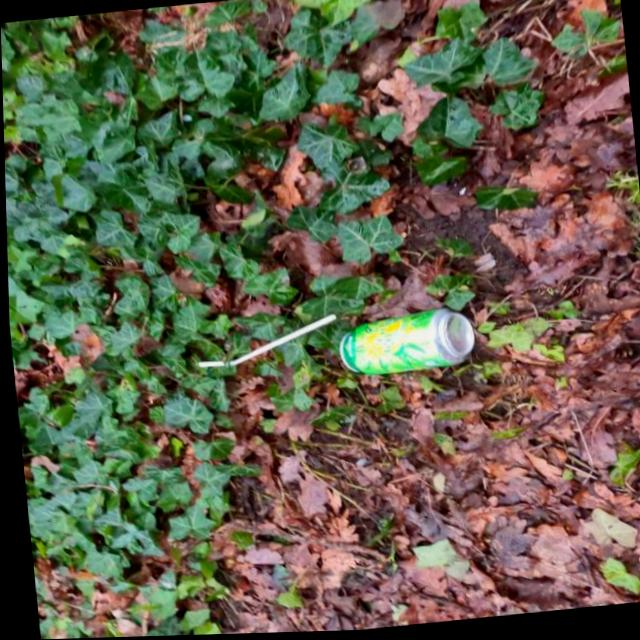Can-Metal: (332, 306, 476, 380)
